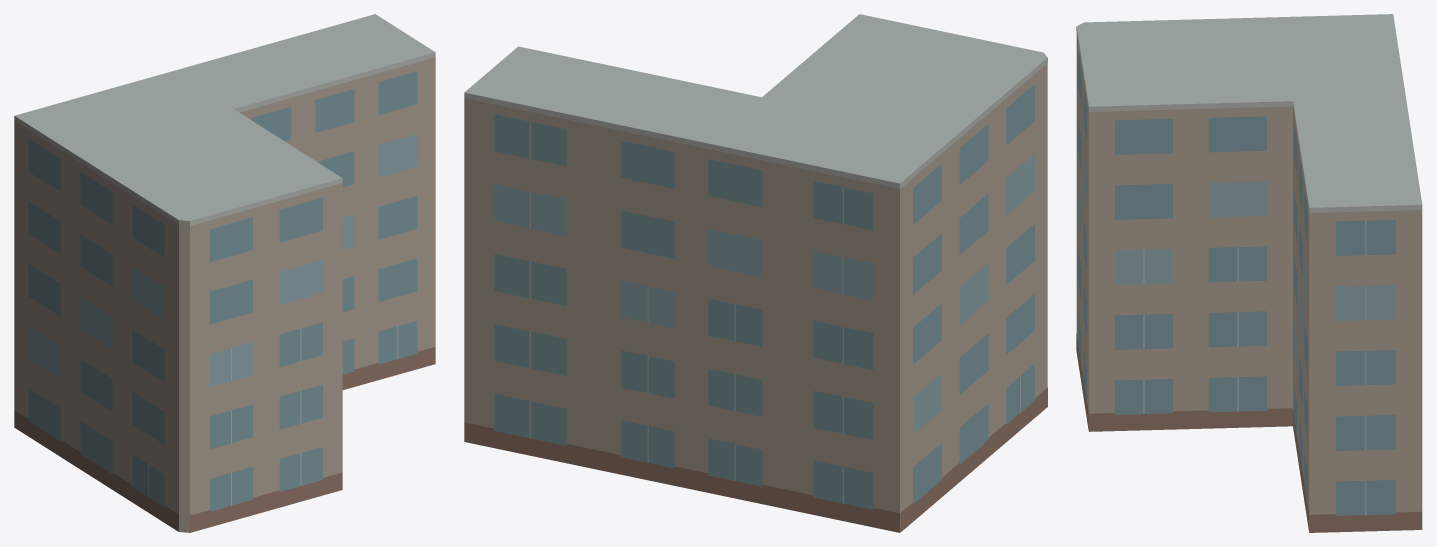
Rendered from survey-upis-32921921.glb.
3 views of the same model, side by side, from view 1: azimuth 30°, elevation 25°; view 2: azimuth 150°, elevation 25°; view 3: azimuth 270°, elevation 25° (orthographic). The views are drawn at different scales.
Visible parts, largest first — view 1: survey-upis-32921921.tmp; view 2: survey-upis-32921921.tmp; view 3: survey-upis-32921921.tmp.
Part boxes in pixels (bbox=[...]): survey-upis-32921921.tmp: bbox=[14, 14, 435, 532]; survey-upis-32921921.tmp: bbox=[464, 14, 1047, 532]; survey-upis-32921921.tmp: bbox=[1076, 14, 1422, 532].
Bounding box in the file's own units: 19.58 × 15.3 × 14.76.
